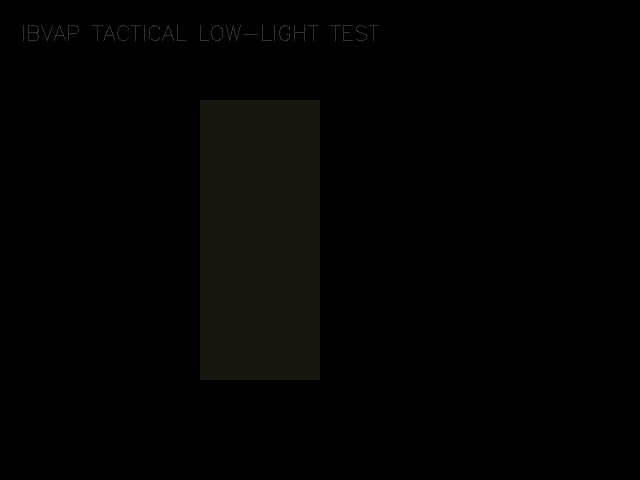People: (200, 100, 320, 380)
